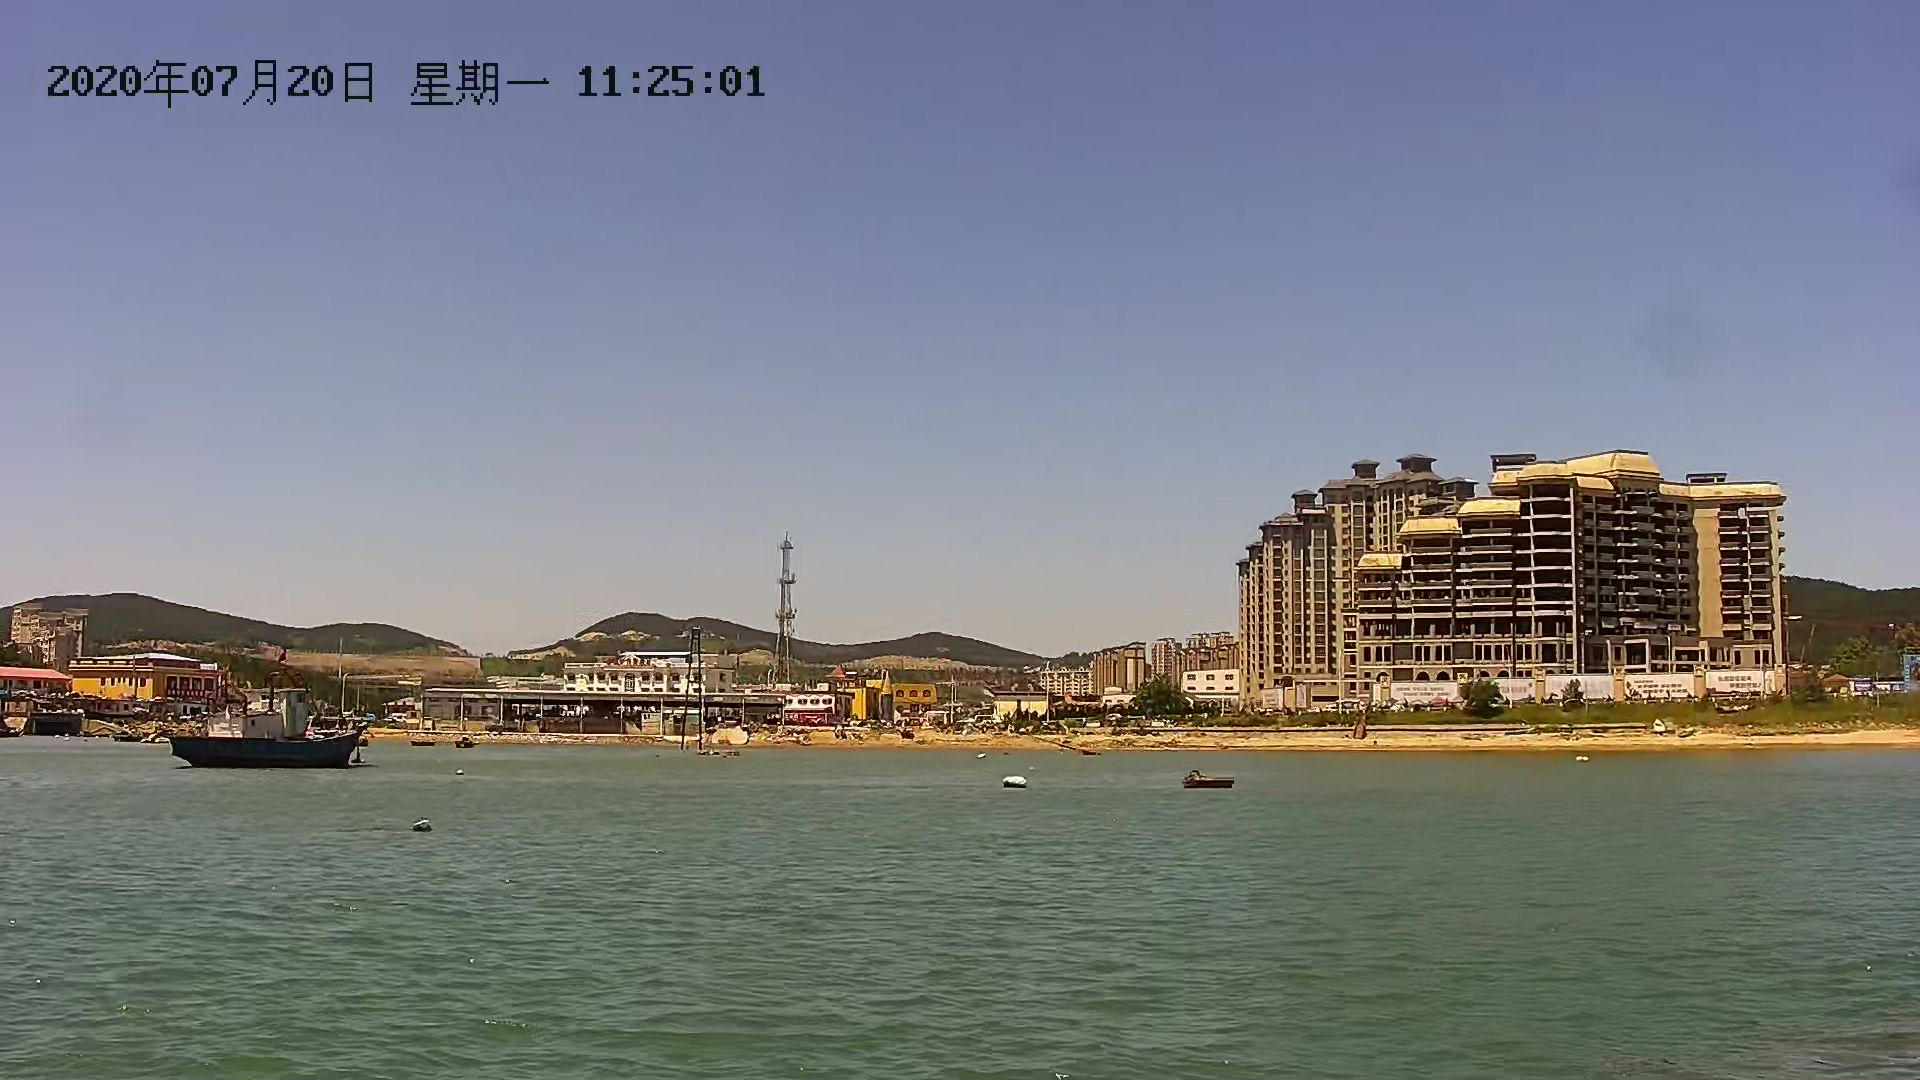ball: (1000, 765, 1036, 789), (410, 820, 444, 835)
boat: (160, 679, 367, 773), (1178, 764, 1245, 791)
